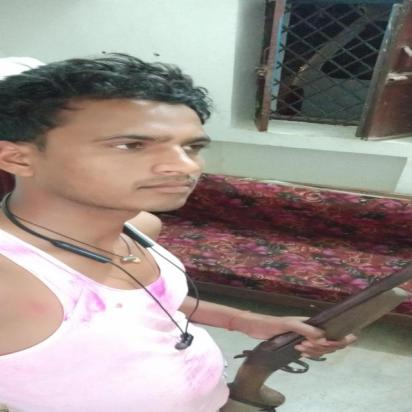Gun: (224, 262, 412, 412)
